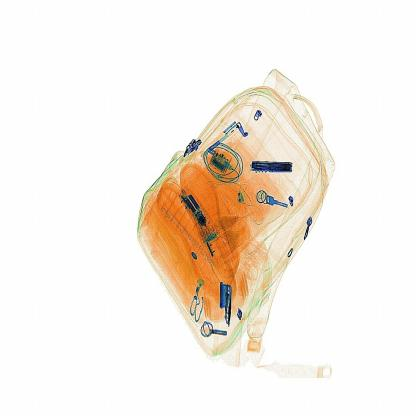scissors: (247, 156, 296, 180)
